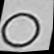no answer: (0, 6, 45, 53)
